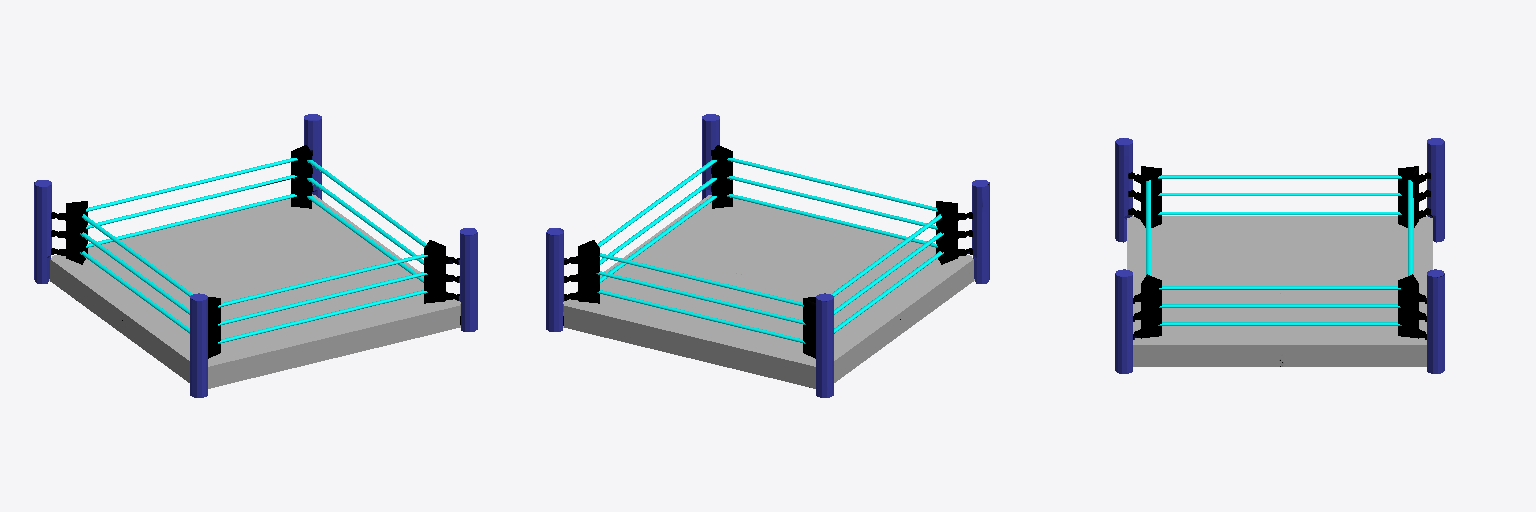
3 views of the same model, side by side, from view 1: azimuth 30°, elevation 25°; view 2: azimuth 150°, elevation 25°; view 3: azimuth 270°, elevation 25° (orthographic).
Visible parts, largest first — view 1: 円柱.001, 円柱.003_円柱.005, 円柱.002_円柱.003; view 2: 円柱.001, 円柱.003_円柱.005, 円柱.002_円柱.003; view 3: 円柱.001, 円柱.002_円柱.003, 円柱.003_円柱.005.
Part boxes in pixels (left/top/right/bottom): 円柱.001: left=34, top=114, right=477, bottom=397; 円柱.003_円柱.005: left=86, top=158, right=427, bottom=343; 円柱.002_円柱.003: left=80, top=160, right=426, bottom=333; 円柱.001: left=546, top=114, right=989, bottom=397; 円柱.003_円柱.005: left=596, top=158, right=937, bottom=343; 円柱.002_円柱.003: left=597, top=160, right=943, bottom=333; 円柱.001: left=1115, top=138, right=1444, bottom=373; 円柱.002_円柱.003: left=1158, top=175, right=1401, bottom=325; 円柱.003_円柱.005: left=1146, top=180, right=1413, bottom=275.
Size of the model in its own units: 10.79 by 3.51 by 10.79.
3 materials, 1 textured.